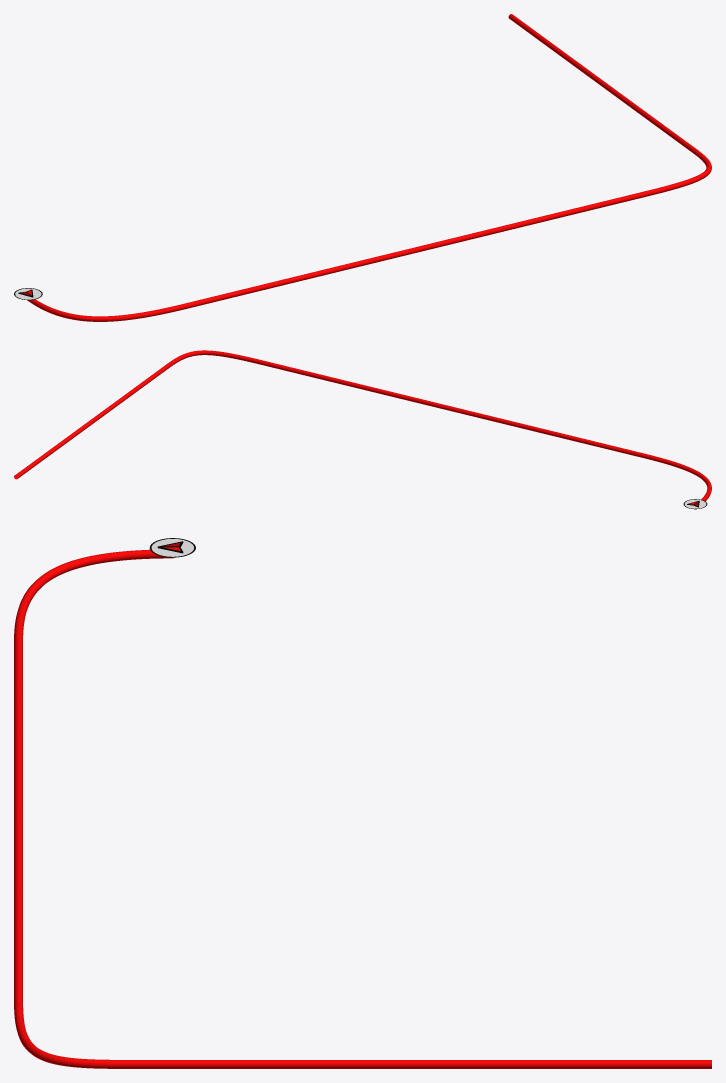
Rendered from route_ddbf95f3-e7e7-4e42-9d2a-7124ebf2c7f2_de_target.glb.
3 renders of one model, top to bottom at view 1: azimuth 30°, elevation 25°; view 2: azimuth 150°, elevation 25°; view 3: azimuth 270°, elevation 25°, orthographic. The views are drawn at different scales.
Visible parts, largest first — view 1: Chefarzt und Oberärzte der Neurologie; view 2: Chefarzt und Oberärzte der Neurologie; view 3: Chefarzt und Oberärzte der Neurologie.
Boxes of the visible parts, <box> form: Chefarzt und Oberärzte der Neurologie: <box>27,14,711,321</box>; Chefarzt und Oberärzte der Neurologie: <box>14,350,711,509</box>; Chefarzt und Oberärzte der Neurologie: <box>14,549,711,1068</box>.
Bounding box in the file's own units: 10.9 × 0.1086 × 6.16.
